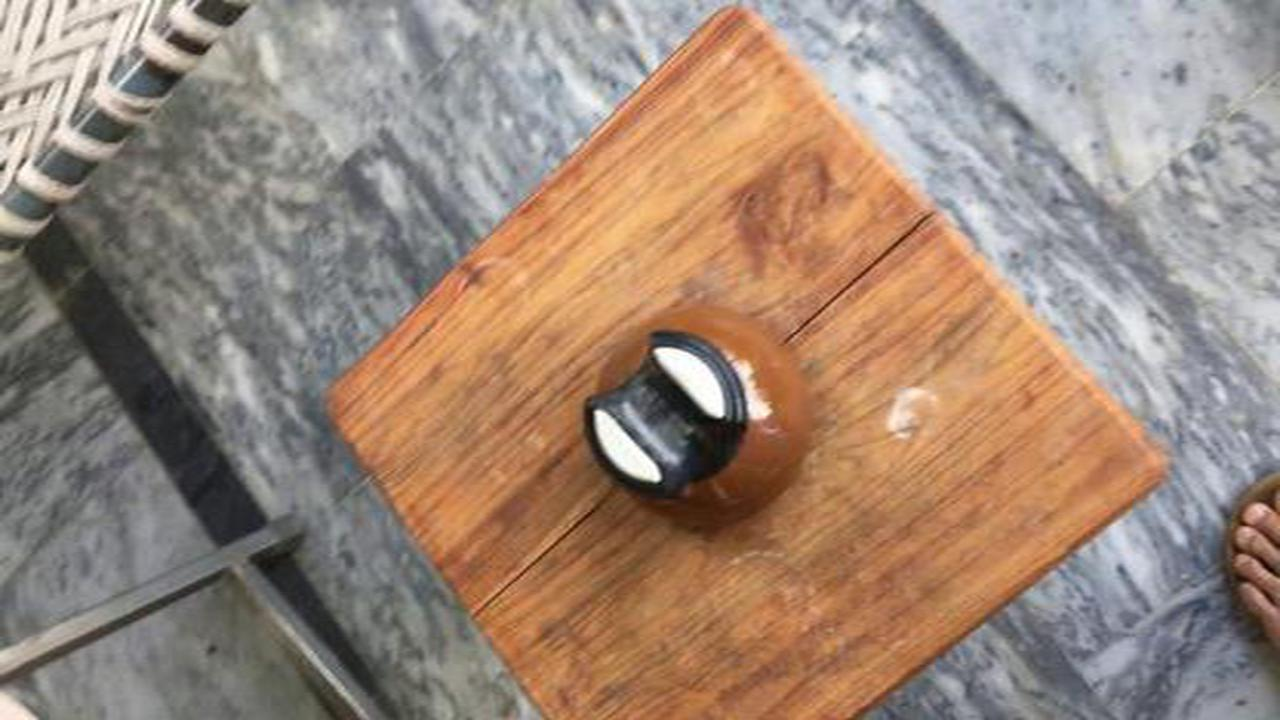insulator_pin: (551, 291, 844, 553)
